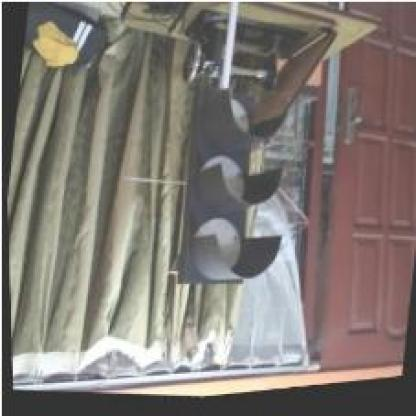green: (168, 79, 302, 295)
